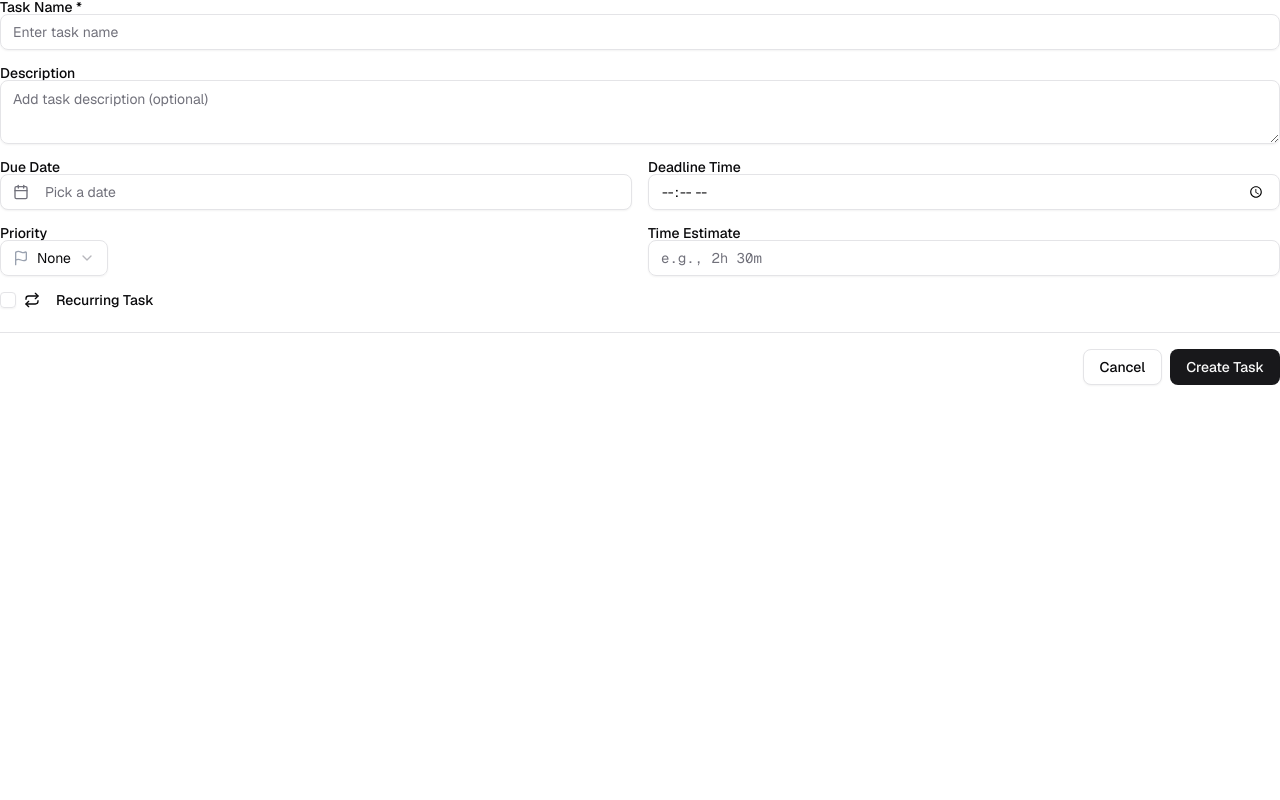
Test: TaskForm Component › handles date selection
Click the button "Pick a date" at (80, 192), box 0,174 -> 632,210
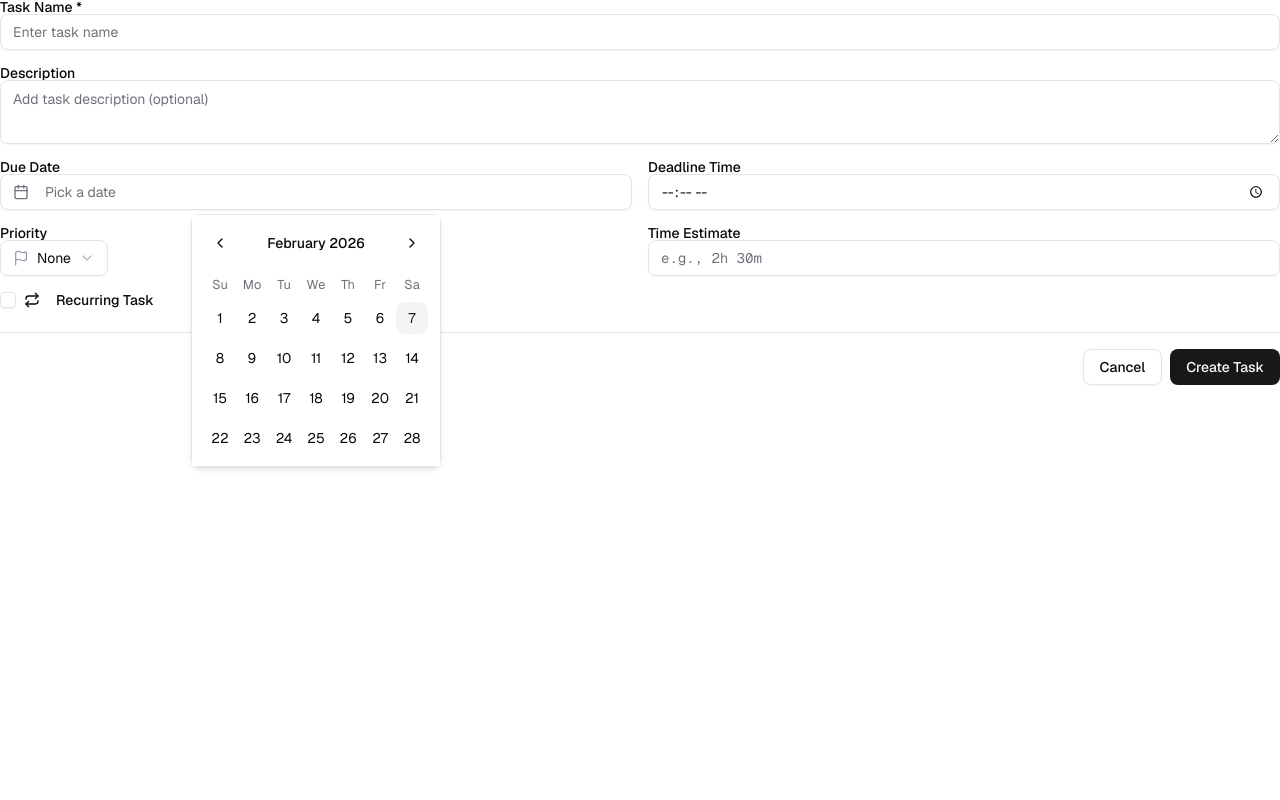
expect the table is shown: met, box 204,275 -> 428,454
